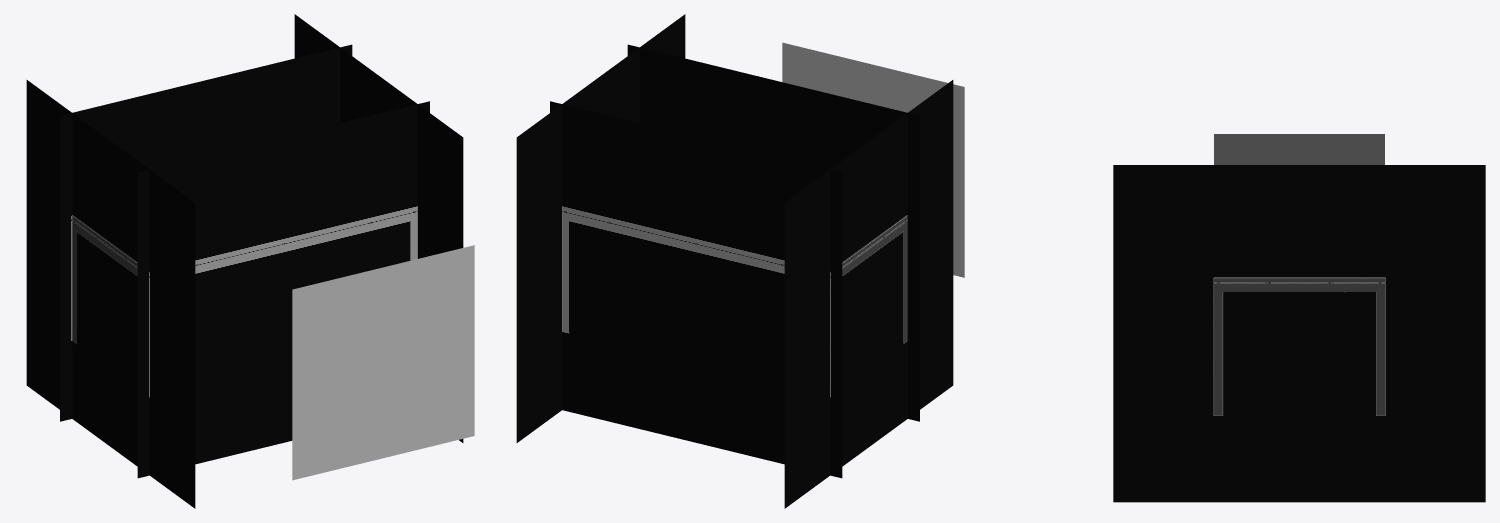
File: Table-3.obj
3 renders of one model, left to right at view 1: azimuth 30°, elevation 25°; view 2: azimuth 150°, elevation 25°; view 3: azimuth 270°, elevation 25°, orthographic. The views are drawn at different scales.
Parts seen in each view (by area): view 1: Plane-orthographic.005_Plane.008, Plane-orthographic.003_Plane.004, Plane-perspective_Plane, Plane-orthographic.004_Plane.005, Plane-orthographic.002_Plane.003, Plane-orthographic_Plane.007, table_Plane.012; view 2: Plane-orthographic.004_Plane.005, Plane-orthographic.003_Plane.004, Plane-orthographic_Plane.007, Plane-orthographic.002_Plane.003, Plane-perspective_Plane, table_Plane.012; view 3: Plane-orthographic.002_Plane.003, table_Plane.012.
Part boxes in pixels (x1,y1,x2,y2): Plane-orthographic.005_Plane.008: (137,101,429,476); Plane-orthographic.003_Plane.004: (26,80,195,508); Plane-perspective_Plane: (292,245,474,480); Plane-orthographic.004_Plane.005: (60,44,352,421); Plane-orthographic.002_Plane.003: (294,14,463,442); Plane-orthographic_Plane.007: (137,413,292,478); table_Plane.012: (72,216,137,342); Plane-orthographic.004_Plane.005: (550,101,842,478); Plane-orthographic.003_Plane.004: (784,80,953,508); Plane-orthographic_Plane.007: (627,44,919,421); Plane-orthographic.002_Plane.003: (516,14,685,442); Plane-perspective_Plane: (782,42,964,277); table_Plane.012: (842,216,907,342); Plane-orthographic.002_Plane.003: (1113,165,1485,502); table_Plane.012: (1214,134,1384,415).
Bounding box in the file's own units: 7.32 × 7.32 × 9.66.
